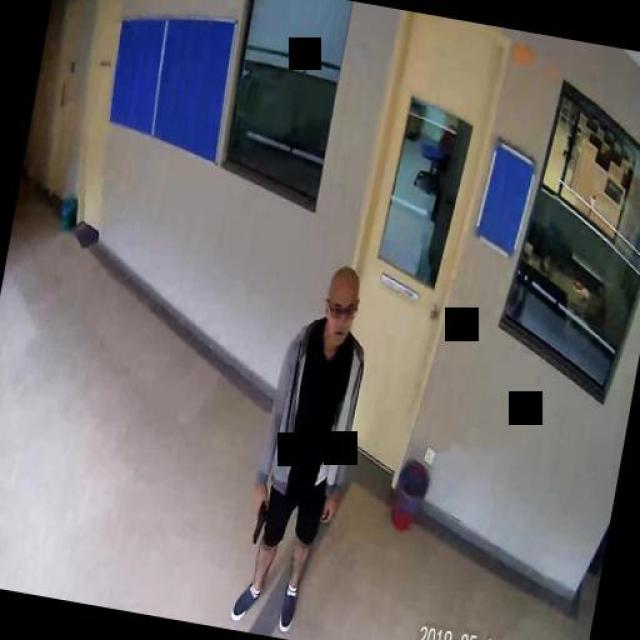gun: (246, 490, 269, 541)
